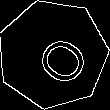O_NW: (19, 22, 87, 87)
